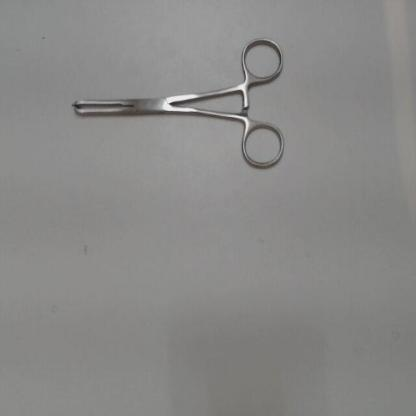Allis Tissue Forceps: (62, 33, 290, 183)
